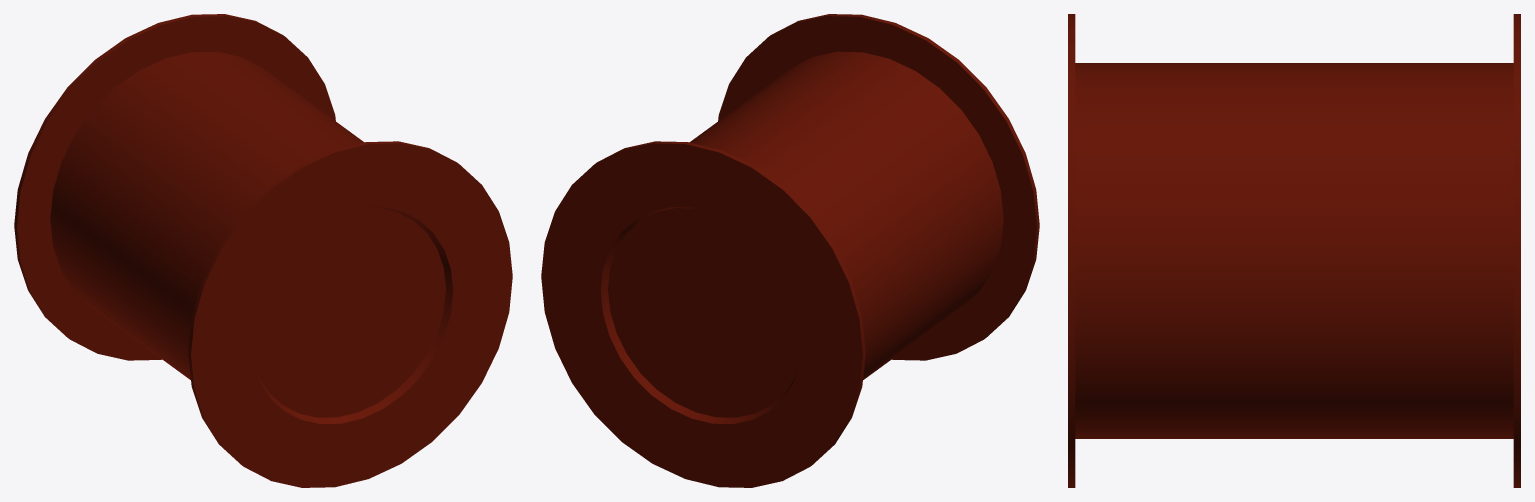
The model's file is wire4.FBX.
3 renders of one model, left to right at view 1: azimuth 30°, elevation 25°; view 2: azimuth 150°, elevation 25°; view 3: azimuth 270°, elevation 25°, orthographic. The views are drawn at different scales.
Visible parts, largest first — view 1: wire4; view 2: wire4; view 3: wire4.
Part boxes in pixels (x1=…): wire4: x1=14, y1=14, x2=512, y2=487; wire4: x1=541, y1=14, x2=1039, y2=487; wire4: x1=1068, y1=14, x2=1520, y2=487.
Size of the model in its own units: 96.39 by 95.86 by 91.72.
